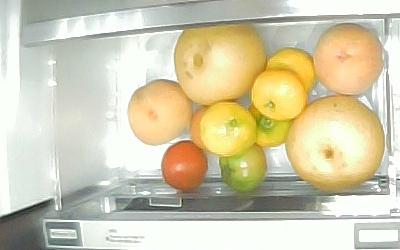peach: (313, 23, 382, 95), (126, 78, 192, 145)
pear: (284, 95, 385, 190), (173, 22, 265, 105)
tangerine: (200, 101, 256, 157), (251, 69, 306, 122), (265, 47, 316, 95), (247, 103, 292, 147)
tomato: (218, 143, 266, 193), (161, 140, 207, 191)
